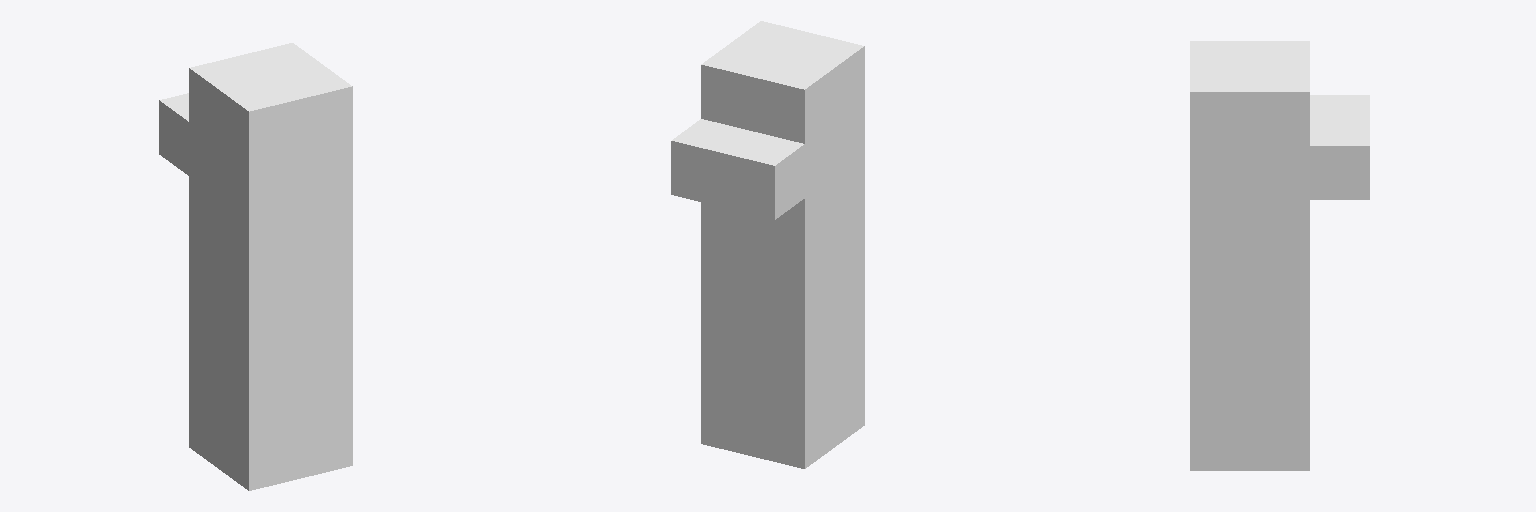
File: PersonFixed1.obj
3 views of the same model, side by side, from view 1: azimuth 30°, elevation 25°; view 2: azimuth 150°, elevation 25°; view 3: azimuth 270°, elevation 25° (orthographic).
Size of the model in its own units: 2 by 7 by 3.